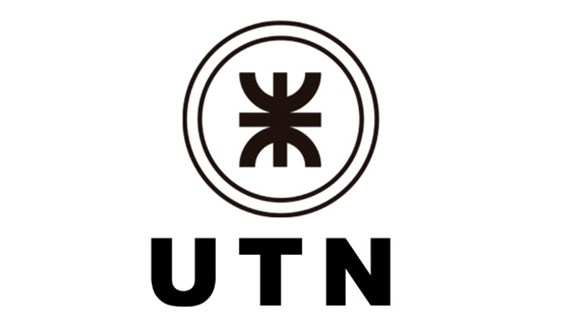utn: (240, 66, 326, 170)
